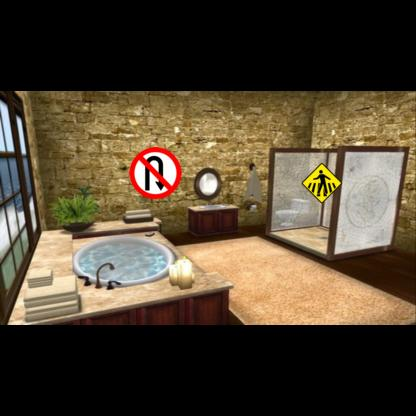A-32b: (301, 162, 342, 204)
